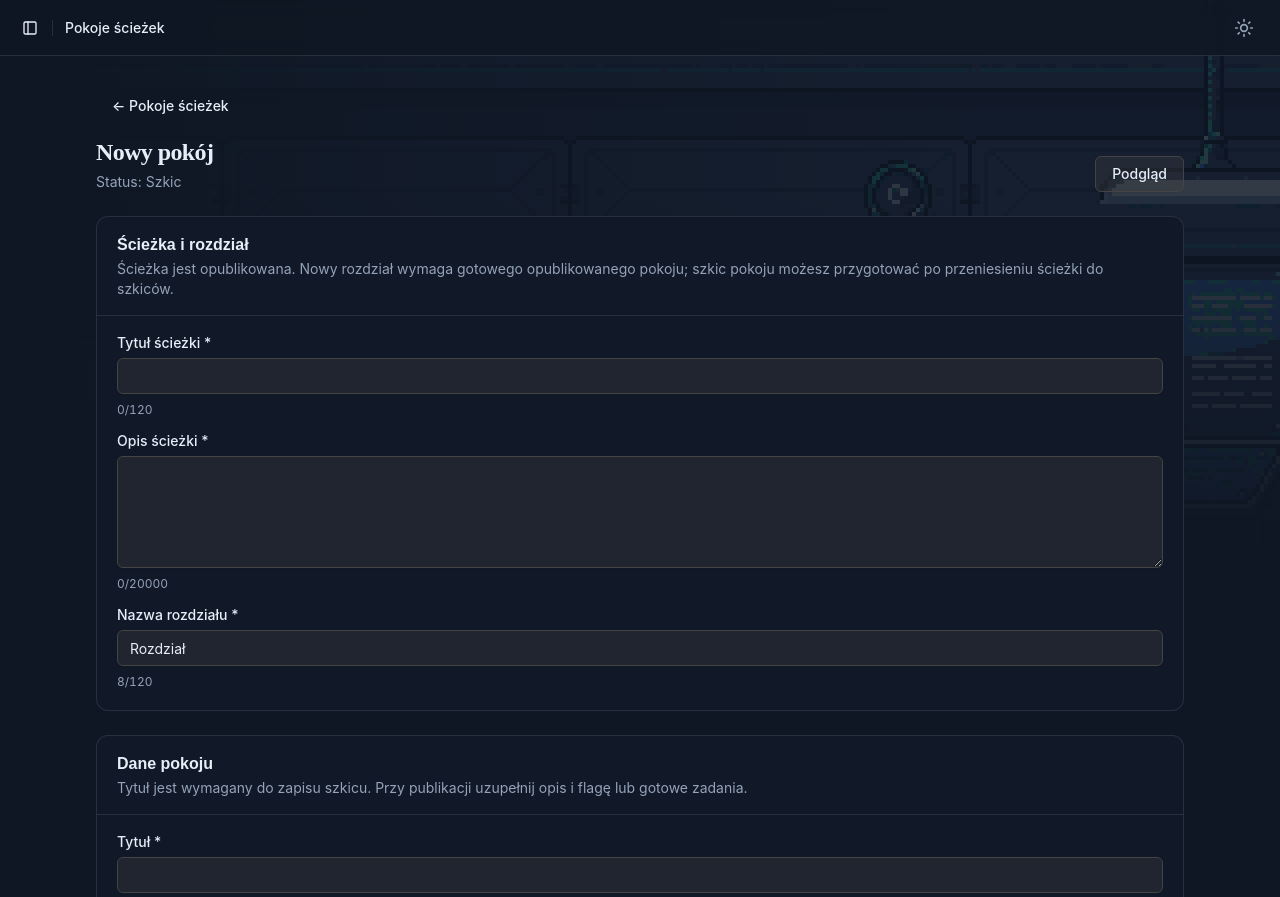
Scenario: draft editors and guarded navigation › focuses the first invalid context field in visual order without losing room edits
This screenshot has width=1280, height=897.
In the field labelled "Tytuł *": (640, 875) [117,857,1163,893], type "Zachowany pokój"
(page scrolled)
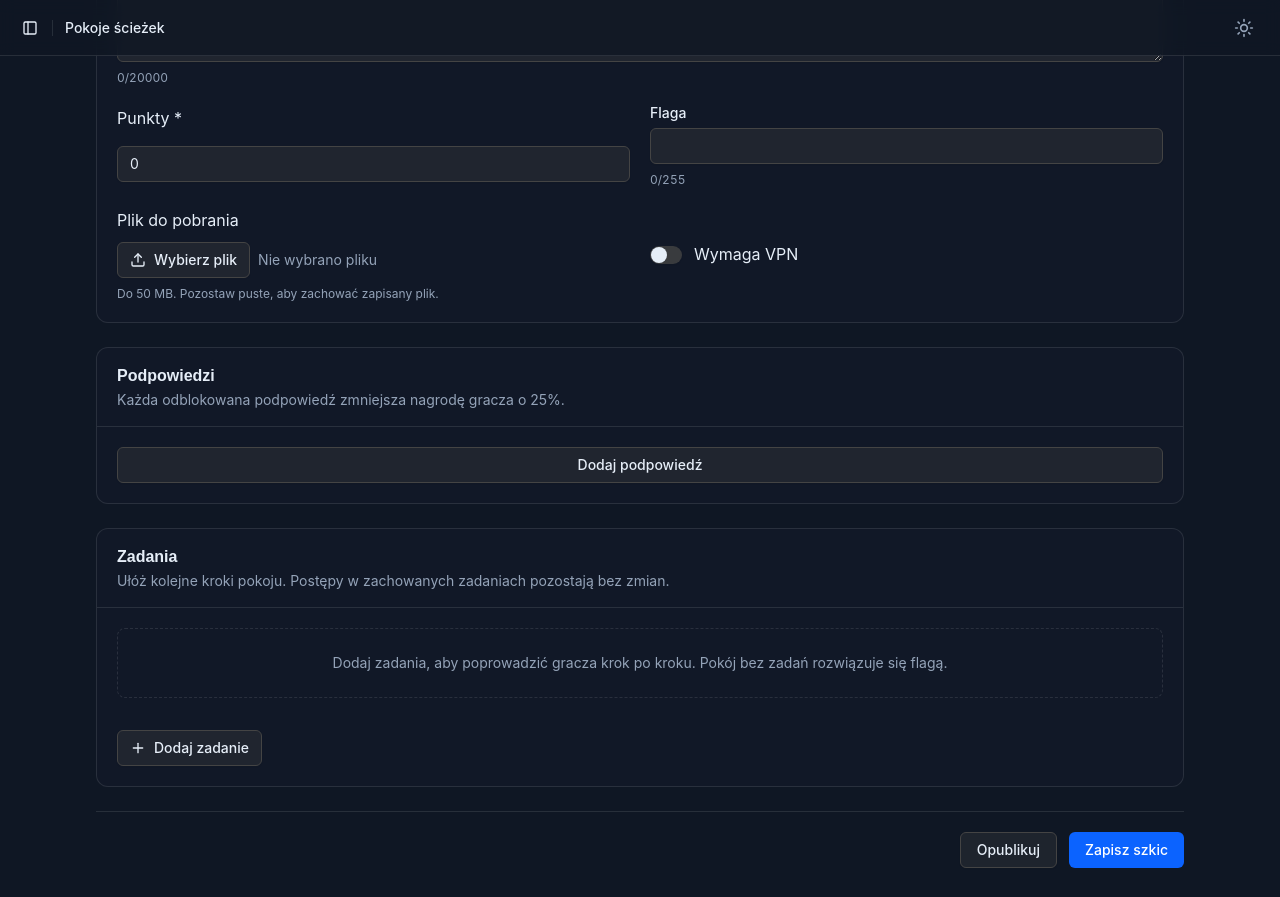
Click the button "Zapisz szkic": (1126, 850) [1069,832,1184,868]
(page scrolled)
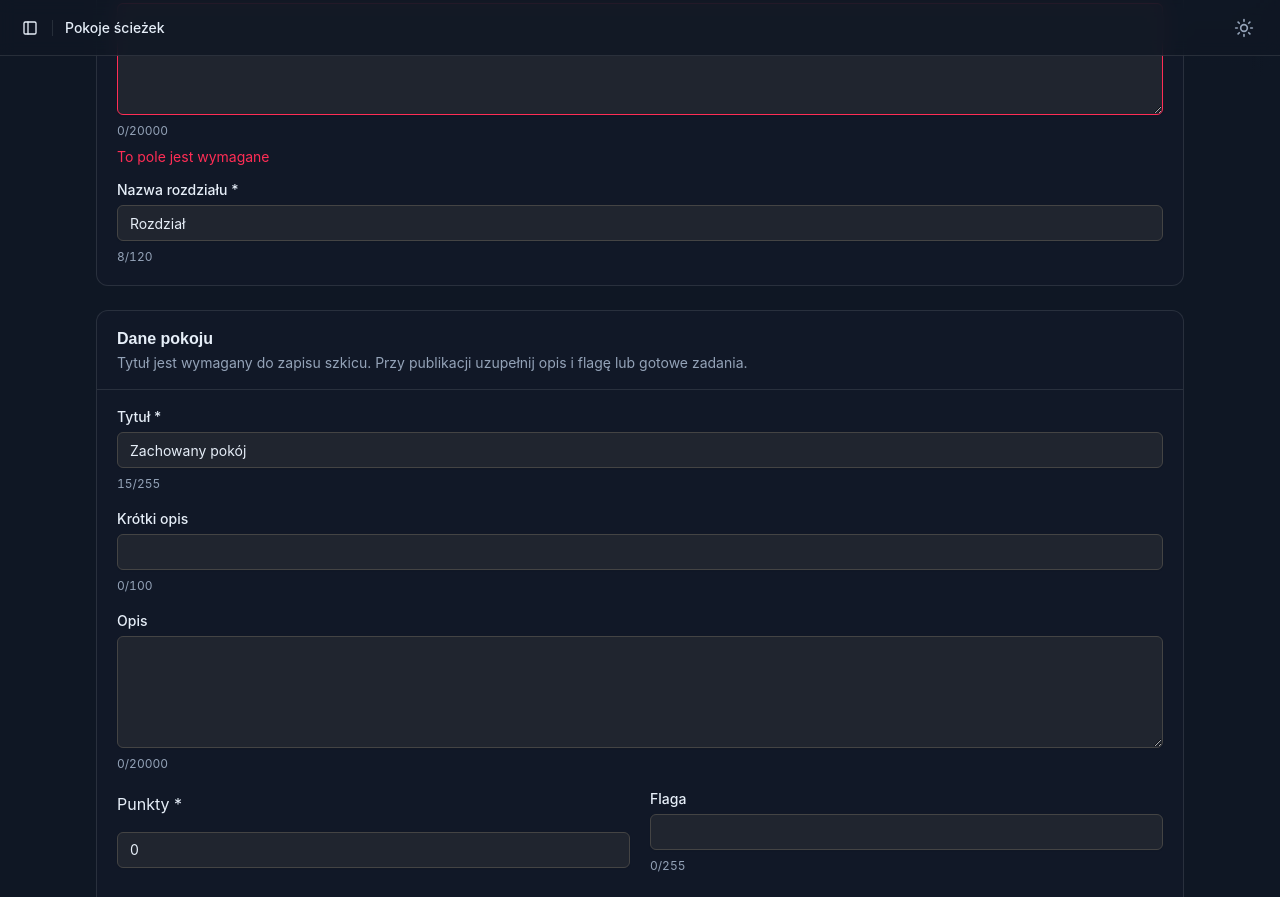
Expected: the text "To pole jest wymagane" is shown 2 times
